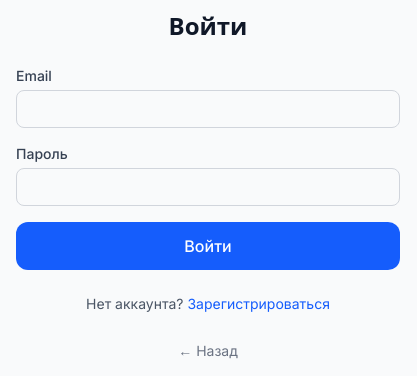
Test case: LoginScreen › disables submit button while request is in flight
Type "test@test.com" into the field labelled "Email".
click(208, 109); type("test@test.com")  # box [16,90,400,128]
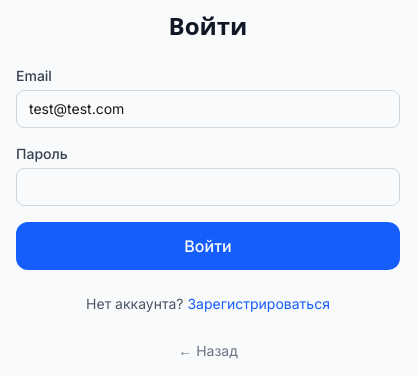
Type "password123" into the password field labelled "Пароль".
click(208, 187); type("password123")  # box [16,168,400,206]
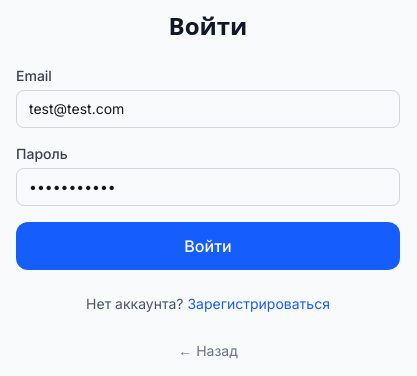
Click the button "Войти".
click(208, 246)  # box [16,222,400,270]
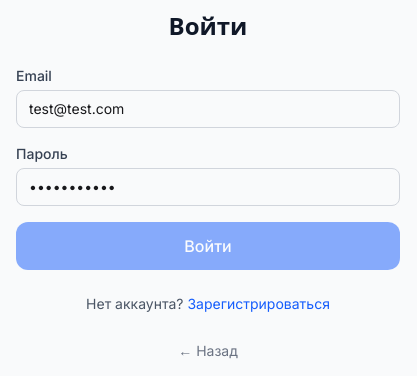
Expected: the button "Войти" is disabled, [16,222,400,270]
